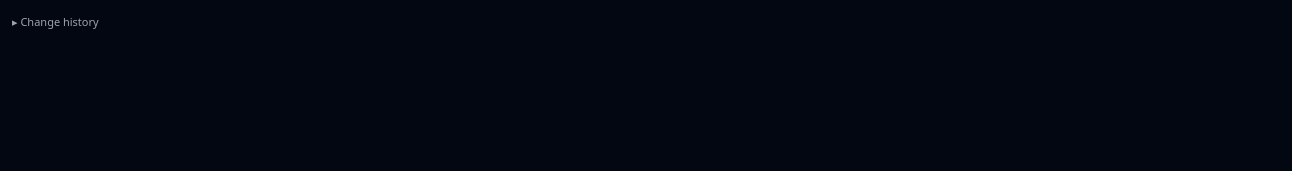
HistoryPanel › shows who changed the answer, when, and before → after
The width and height of the screenshot is (1292, 171).
Click the button "▸ Change history" at coordinates (55, 22), box [12,14,99,30]
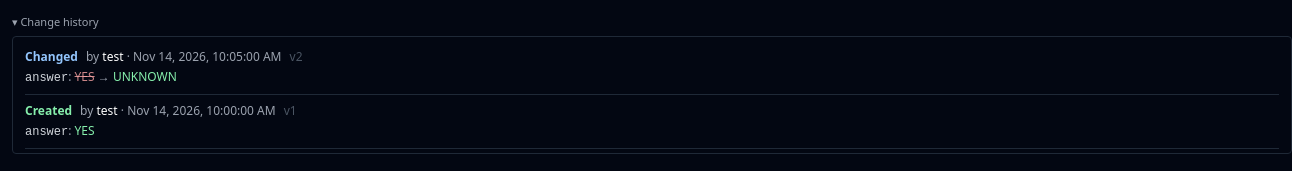
Expected: the number of list items with test id "history-entry" is 2, [25,41,1279,95]; [25,95,1279,149]
Expected: the list item with test id "history-entry" shows "Changed", [25,48,78,65]
Expected: the list item with test id "history-entry" shows "test", [102,48,124,65]
